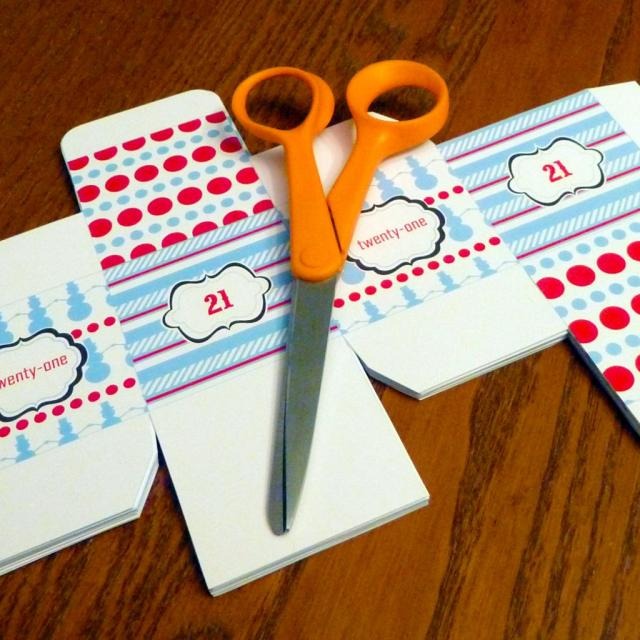scissor: (224, 53, 448, 533)
